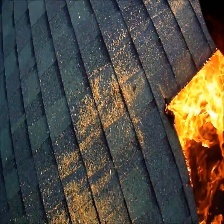fire: (163, 40, 223, 218)
